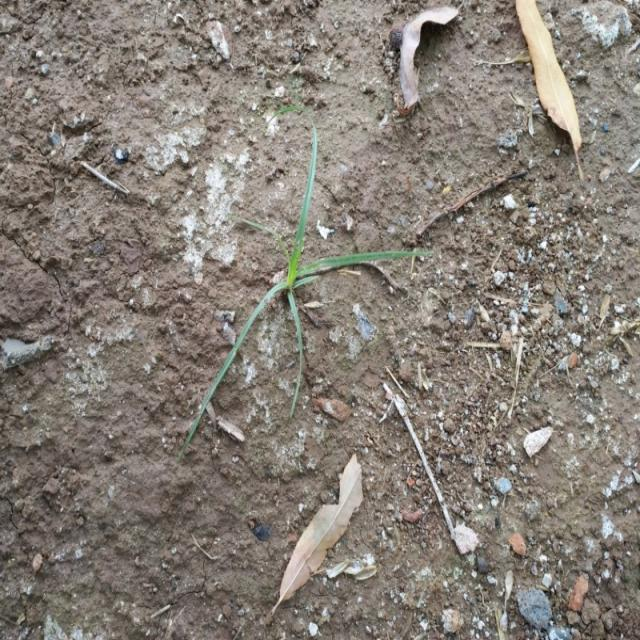sedge: (147, 122, 443, 401)
